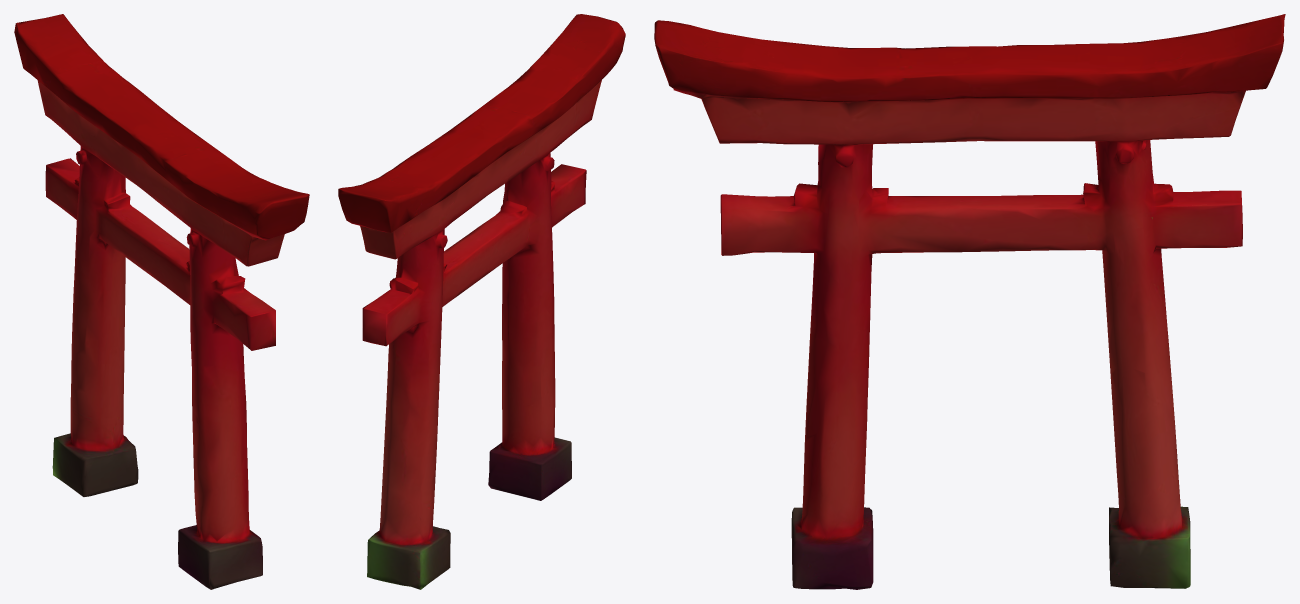
The model's file is torii-gate.glb.
The picture shows the model from 3 angles, left to right: view 1: azimuth 30°, elevation 25°; view 2: azimuth 150°, elevation 25°; view 3: azimuth 270°, elevation 25°; orthographic projection. The views are drawn at different scales.
Parts seen in each view (by area): view 1: tripo_node_130218a2-f17b-46e2-8cec-b500be27d85f; view 2: tripo_node_130218a2-f17b-46e2-8cec-b500be27d85f; view 3: tripo_node_130218a2-f17b-46e2-8cec-b500be27d85f.
Part boxes in pixels (box(x1,y1,x2,y2)): tripo_node_130218a2-f17b-46e2-8cec-b500be27d85f: box(14, 14, 309, 589); tripo_node_130218a2-f17b-46e2-8cec-b500be27d85f: box(338, 14, 625, 589); tripo_node_130218a2-f17b-46e2-8cec-b500be27d85f: box(654, 14, 1285, 589).
Size of the model in its own units: 0.1372 by 0.9489 by 1.
1 material, 1 textured.
